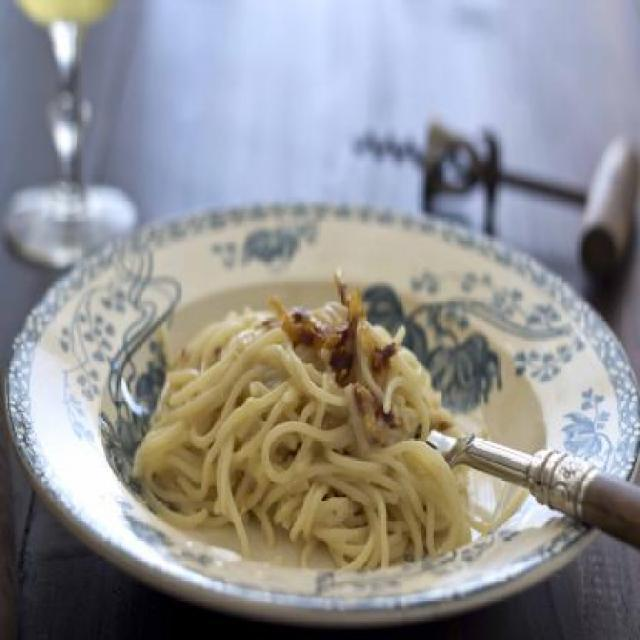Pasta with carbonara sauce: (135, 216, 548, 582)
